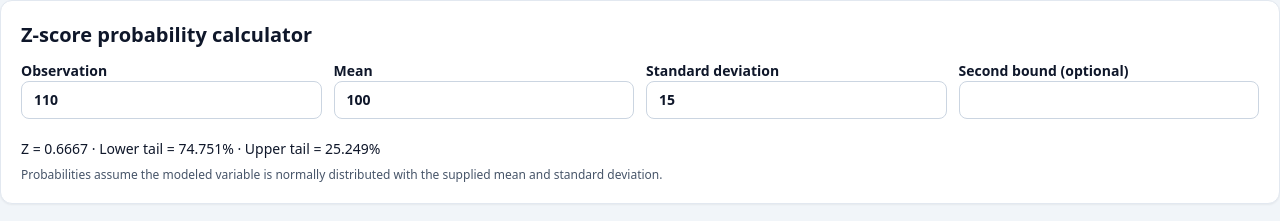
v1.4 lesson tools › exposes labeled Z inputs and validation
expect the number field labelled "Observation" is shown: met, box [21,81,322,119]
Step 1. Replace the text in the number field labelled "Standard deviation" with "0" → (796, 100), box [646,81,946,119]
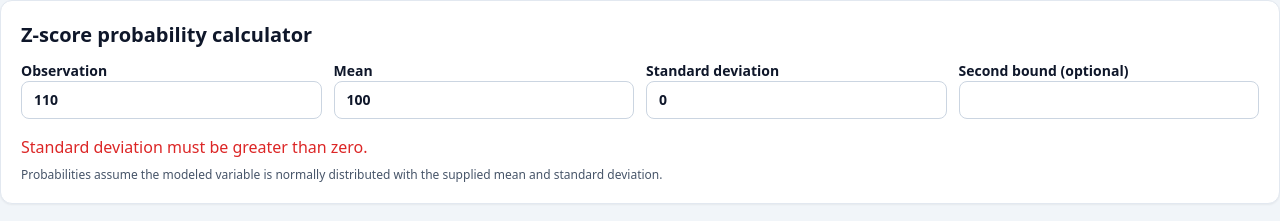
expect the message shows "greater than zero": met, box [21,136,368,158]
